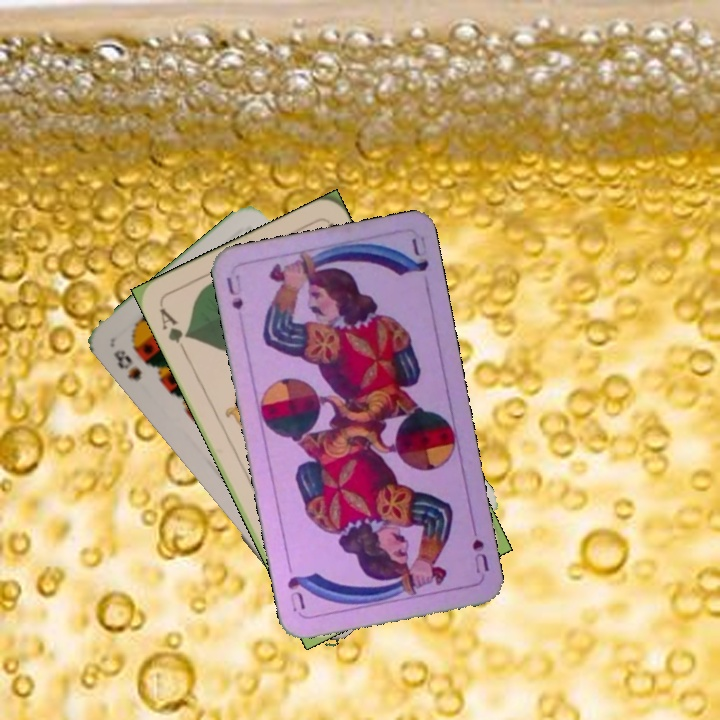GA: (155, 304, 192, 357)
S8: (109, 345, 144, 384)
SU: (468, 519, 492, 576), (222, 271, 246, 313)
